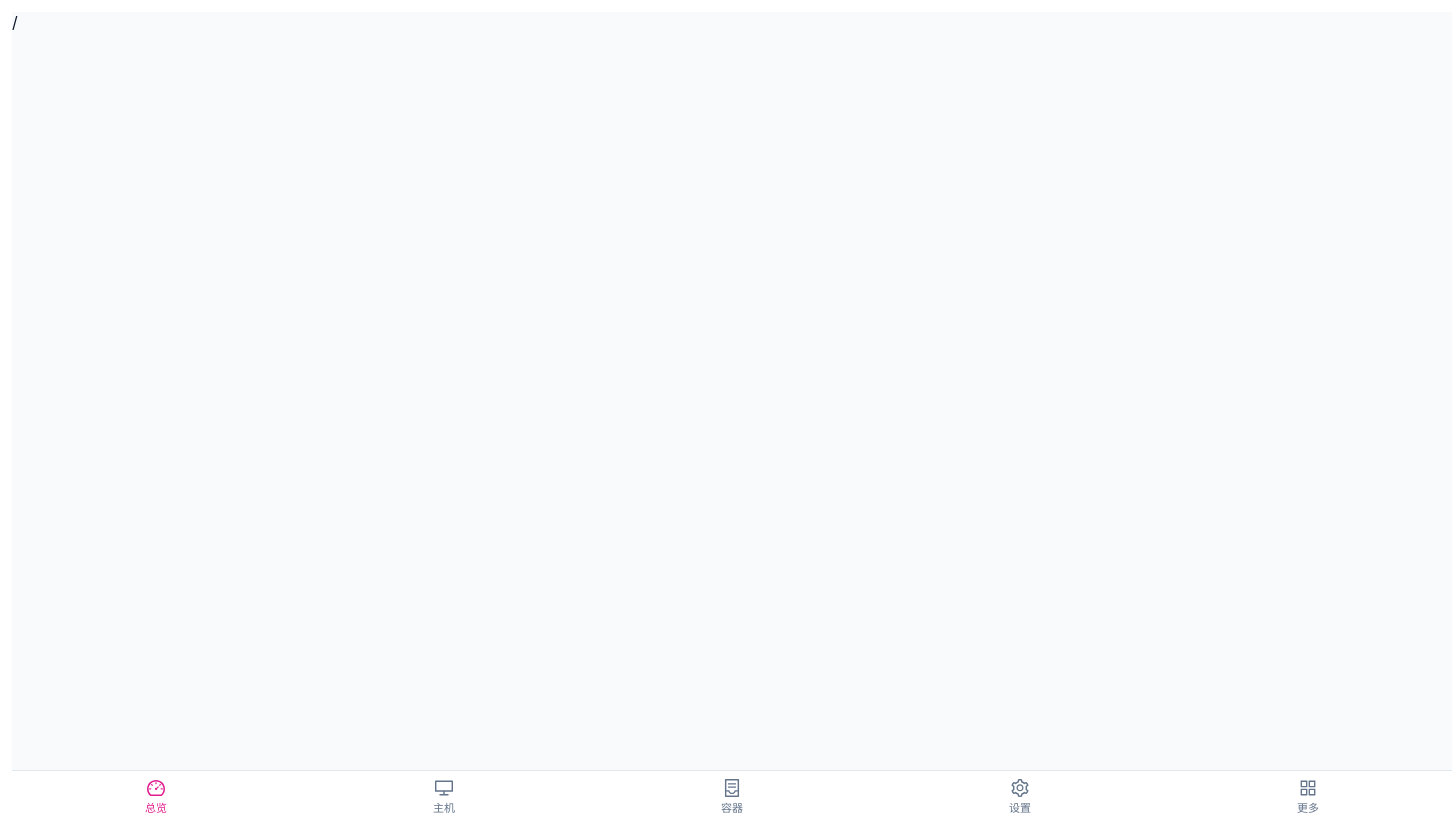
Scenario: MobileTabBar › 「更多」面板点击条目导航到对应路径
Click the link "更多" at [1308, 796], box [1297,778,1319,814]
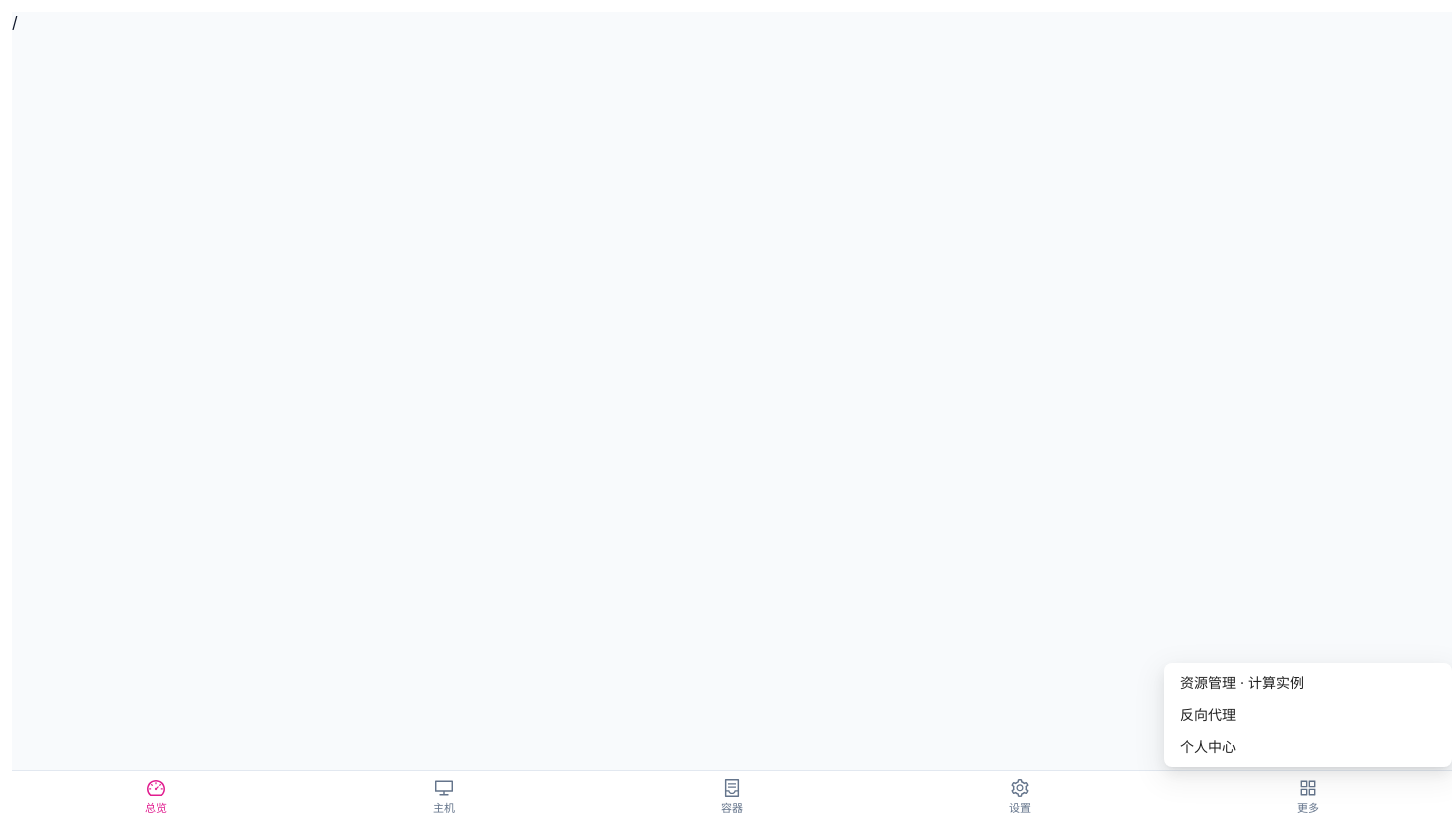
Click the menu item "反向代理" at [1208, 714], box [1180,706,1236,723]
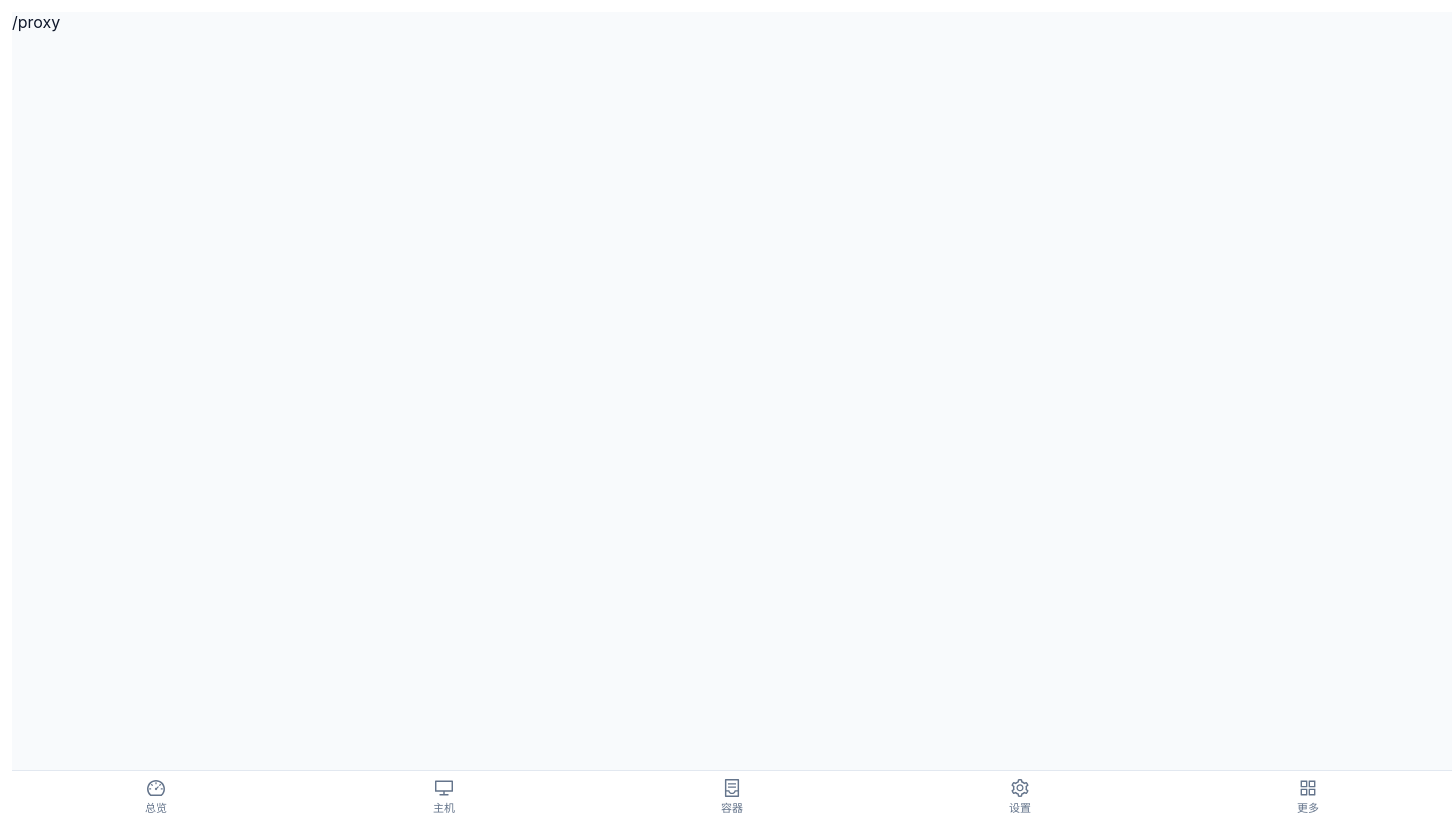
Now the text with test id "loc" reads "/proxy", box [12,12,60,32]
